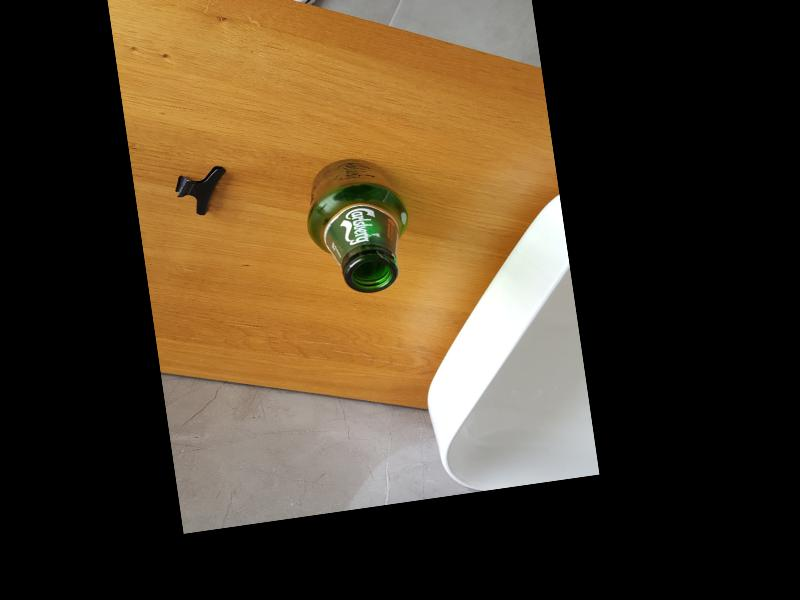Beer: (298, 151, 419, 299)
